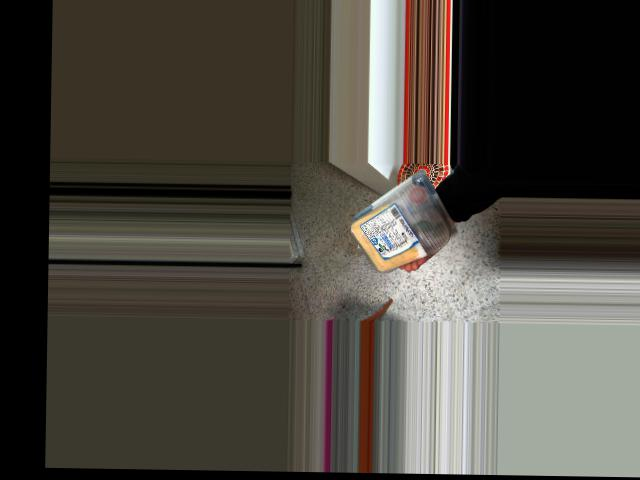cheese: (347, 209, 441, 263)
